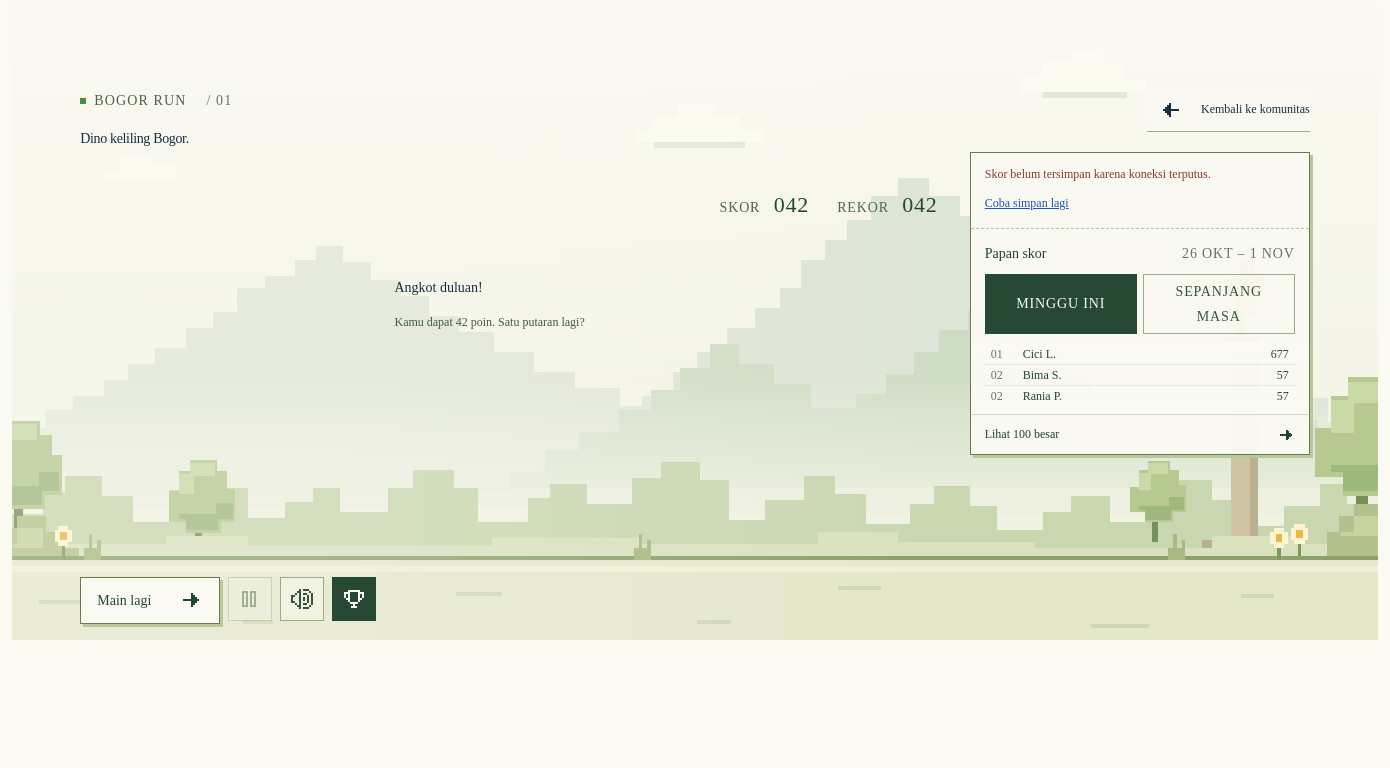
leaderboard panel › shows server rejections and lets a dropped connection retry
Expected: the button named "Ikut main: Bogor Run" is enabled, [80,577,220,624]
Click the button "Coba simpan lagi": click(1027, 204) [985,192,1069,216]
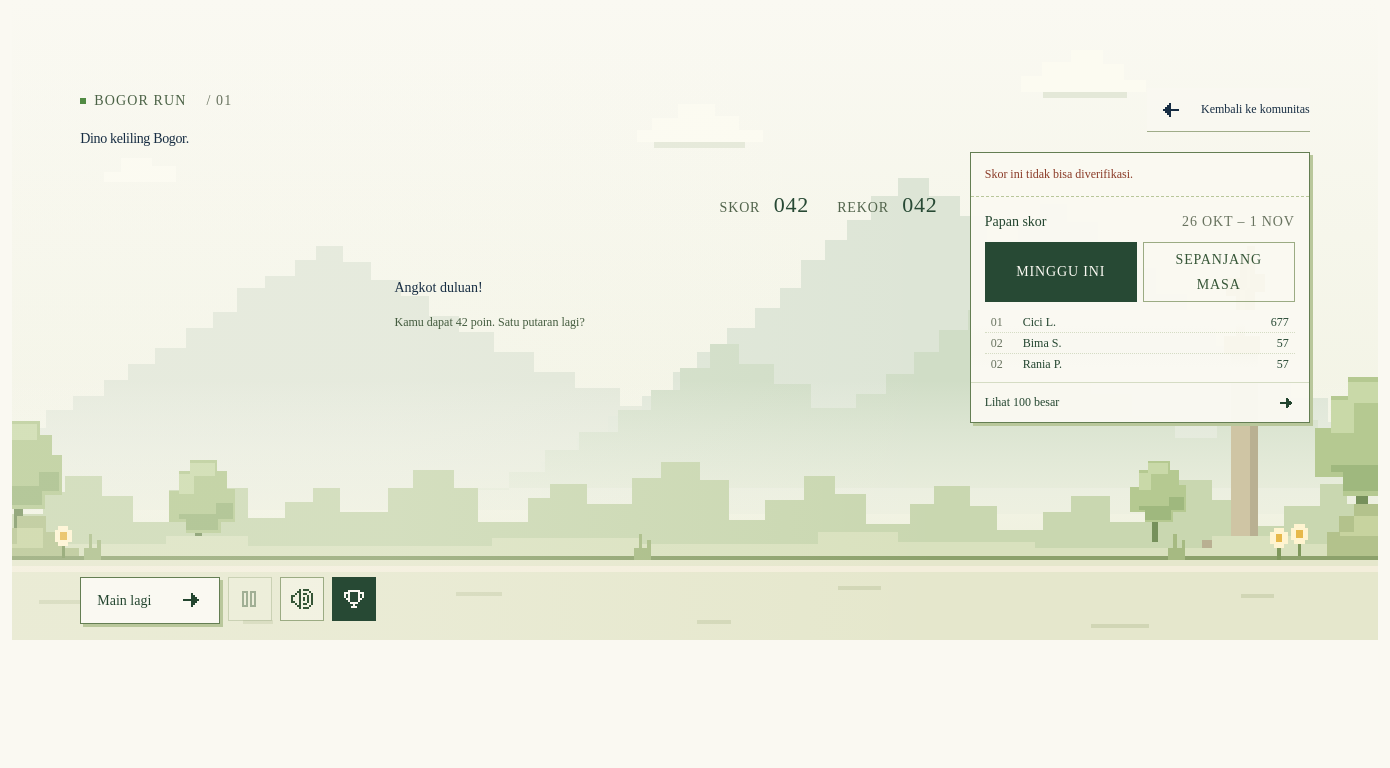
Expected: the button "Coba simpan lagi" is gone
